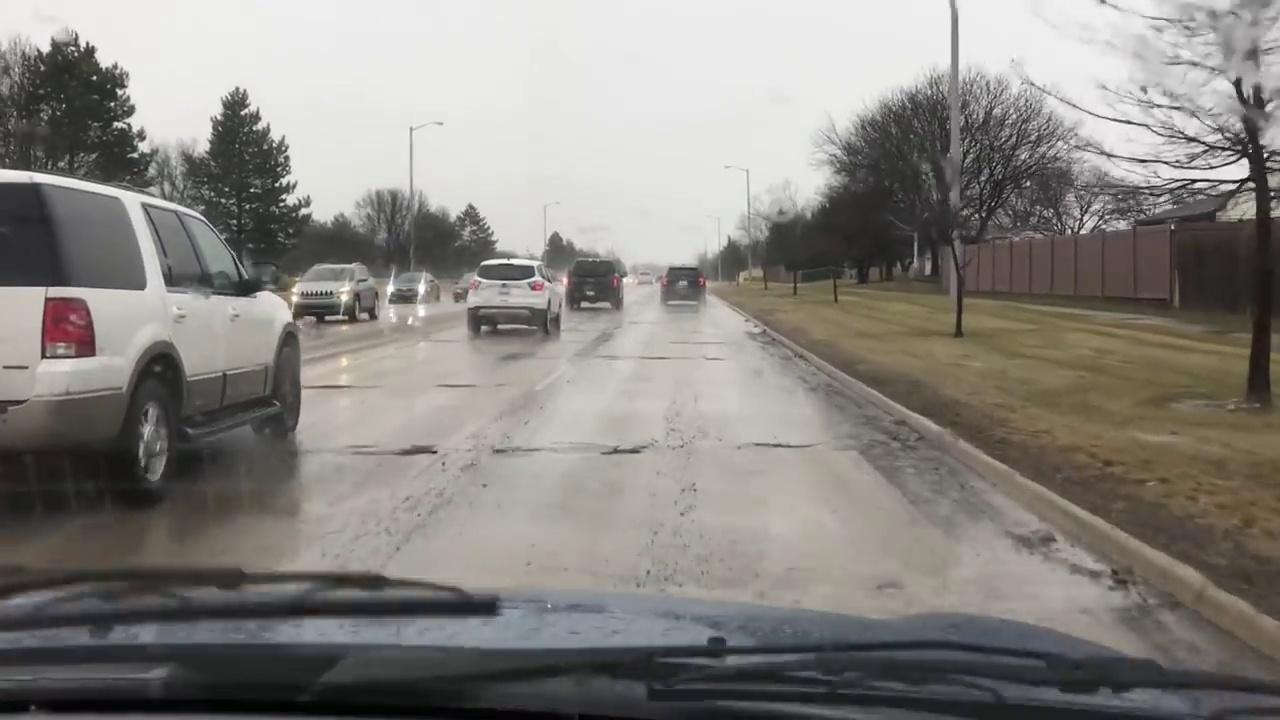pothole: (492, 438, 654, 456), (345, 444, 443, 459)
